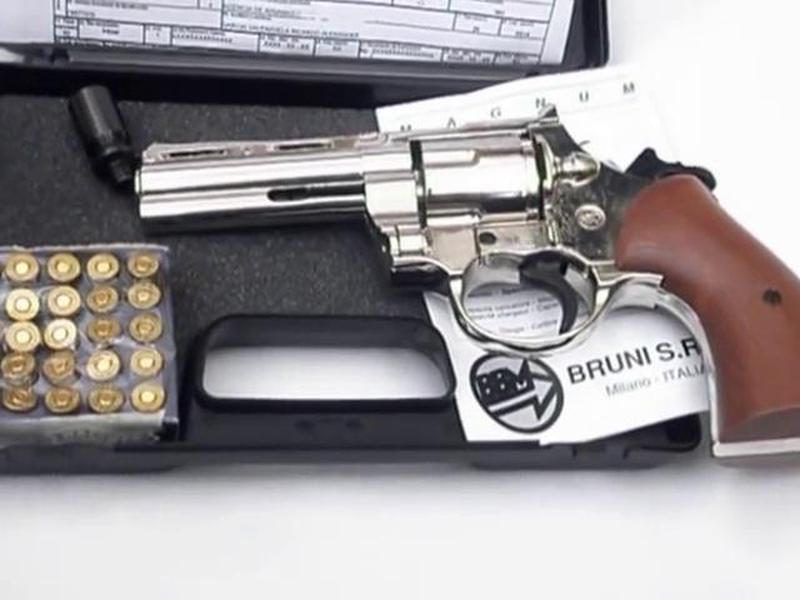Revolver: (136, 134, 798, 385)
